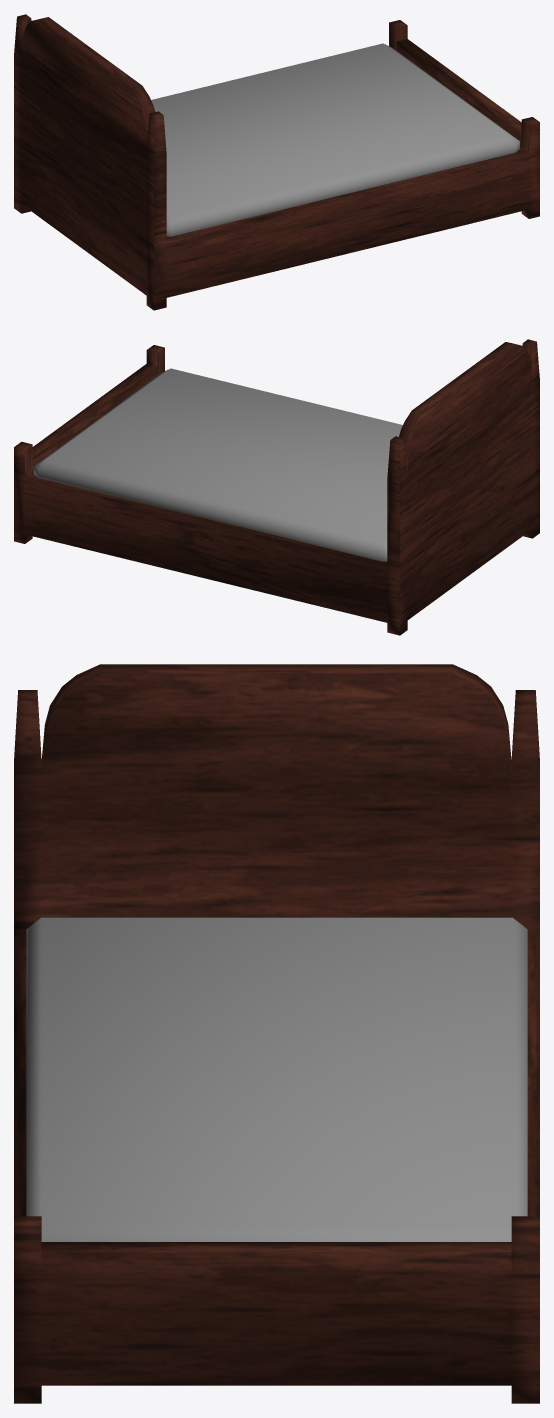
File: Cama.fbx
The picture shows the model from 3 angles, top to bottom: view 1: azimuth 30°, elevation 25°; view 2: azimuth 150°, elevation 25°; view 3: azimuth 270°, elevation 25°; orthographic projection. The views are drawn at different scales.
Parts seen in each view (by area): view 1: Cube; view 2: Cube; view 3: Cube.
Part boxes in pixels (x1,y1,x2,y2): Cube: [14, 14, 539, 310]; Cube: [14, 339, 539, 635]; Cube: [14, 664, 539, 1403].
Size of the model in its own units: 630 by 320 by 395.
2 materials, 1 textured.
